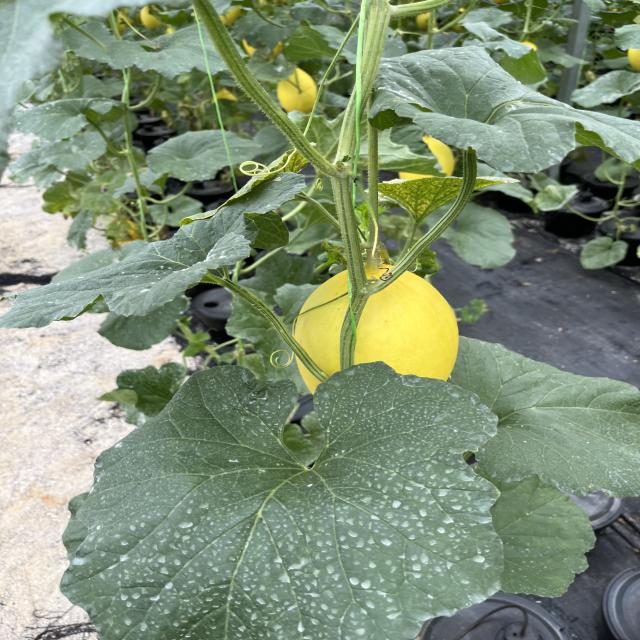CMV: (362, 169, 520, 225)
healthy: (56, 356, 510, 640), (453, 328, 640, 496), (459, 476, 603, 600), (60, 19, 245, 81)
powdery mildew: (1, 168, 309, 333), (368, 45, 640, 176), (10, 97, 131, 140)
